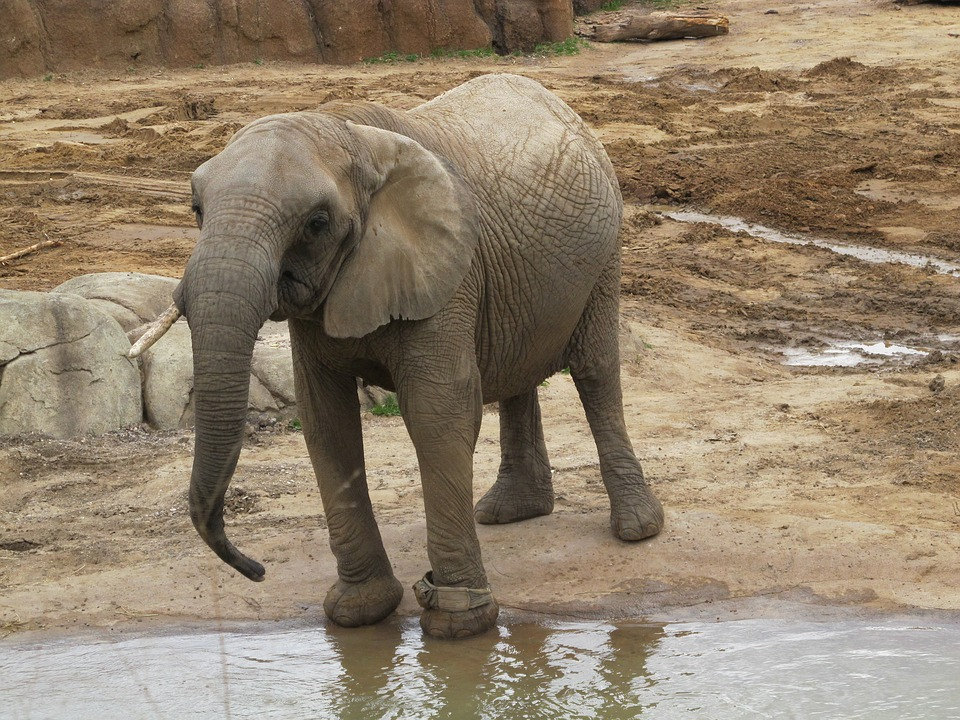elephant: (106, 64, 691, 632)
